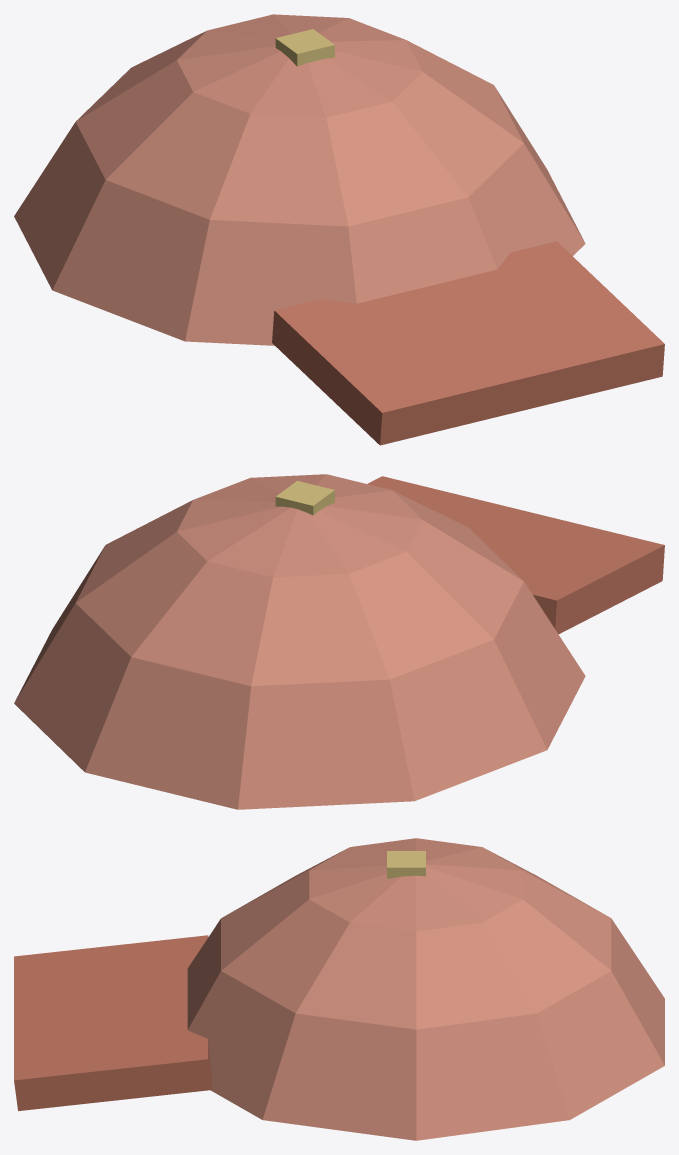
File: av_hair_cap.glb
3 views of the same model, one above another, from view 1: azimuth 30°, elevation 25°; view 2: azimuth 150°, elevation 25°; view 3: azimuth 270°, elevation 25° (orthographic). The views are drawn at different scales.
Bounding box in the file's own units: 0.5254 × 0.2143 × 0.6658.
